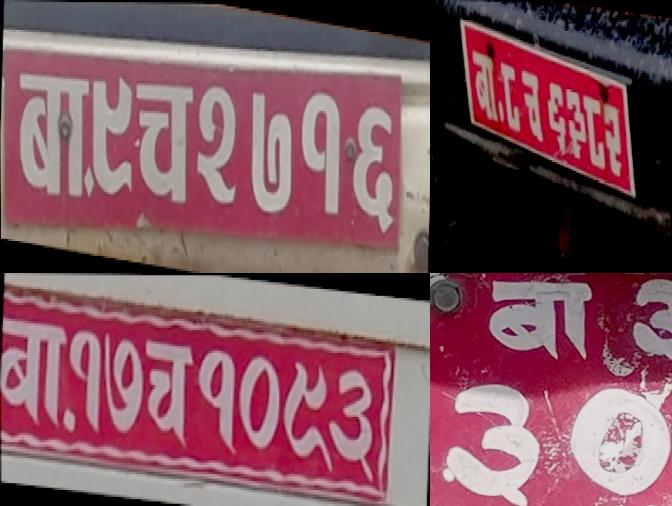0: (559, 379, 672, 498), (237, 353, 282, 449)
1: (297, 84, 348, 236), (193, 346, 242, 454), (65, 328, 104, 430)
2: (193, 76, 241, 222), (600, 101, 628, 178)
3: (431, 373, 547, 506), (620, 273, 672, 368), (329, 367, 377, 464), (562, 85, 588, 160)
6: (347, 87, 398, 241), (544, 78, 568, 160)
7: (244, 76, 298, 219), (101, 330, 146, 435)
8: (578, 92, 609, 173), (498, 56, 524, 138)
9: (88, 68, 134, 212), (278, 359, 334, 465)
ba: (7, 55, 91, 209), (477, 273, 598, 365), (0, 316, 66, 427), (466, 47, 500, 129)
cha: (130, 72, 195, 222), (140, 337, 195, 445), (516, 65, 547, 146)
